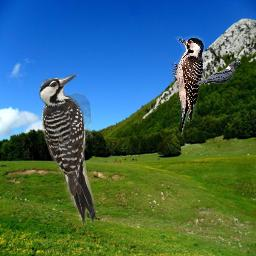Crow: (197, 61, 241, 84)
Woodpecker: (39, 74, 97, 225), (172, 35, 205, 137)
